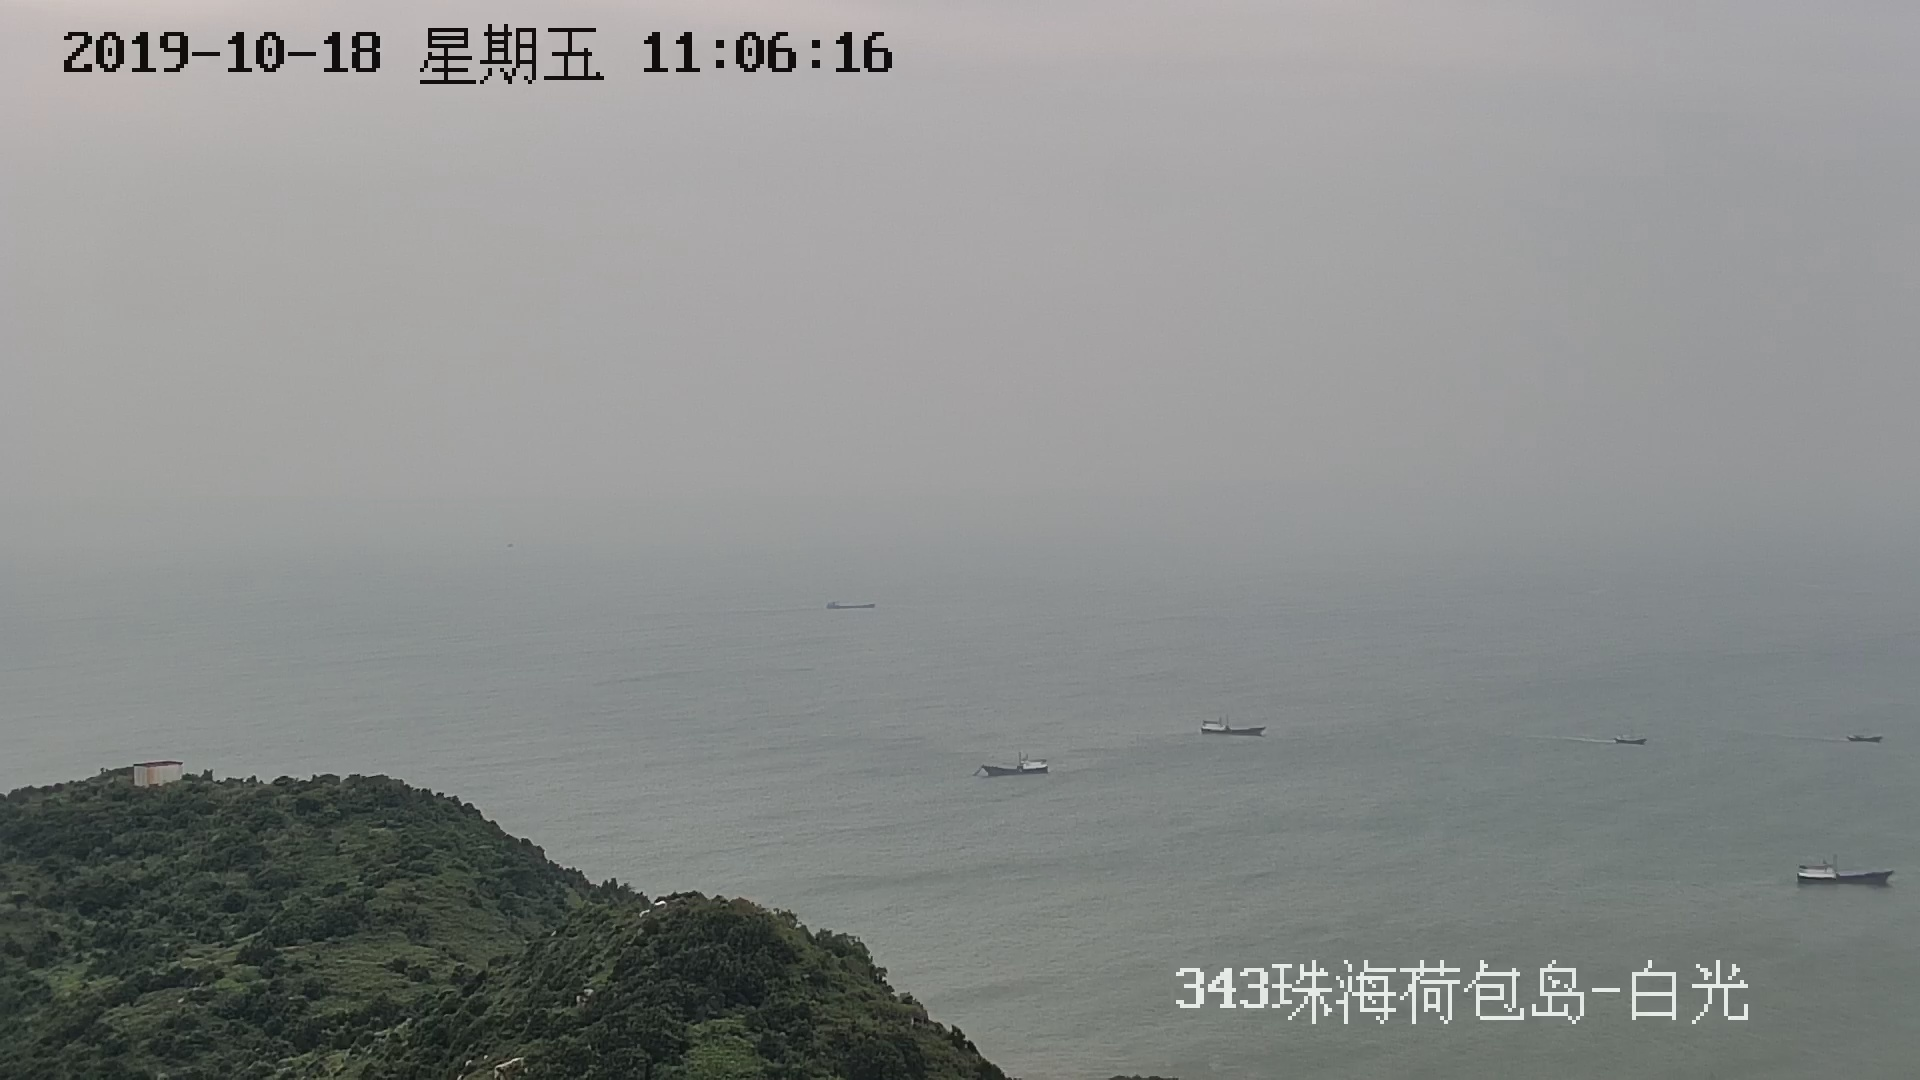ship: (1793, 858, 1895, 891), (975, 754, 1050, 778), (1203, 717, 1271, 742)
